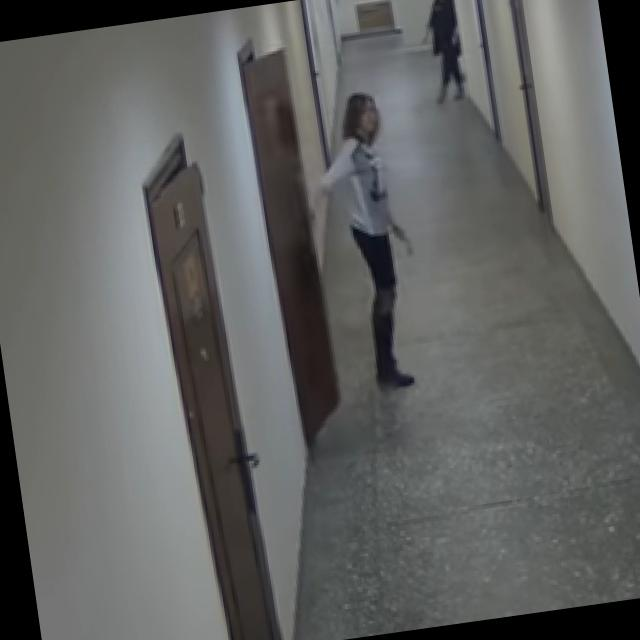person: (289, 86, 432, 397)
